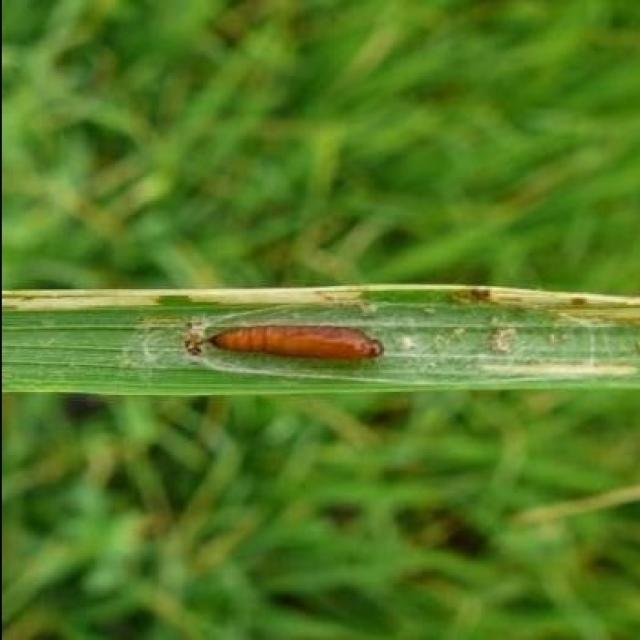peach borer: (193, 325, 387, 369)
